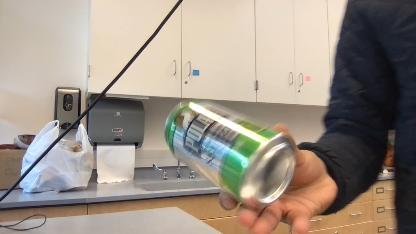Can: (160, 86, 300, 211)
